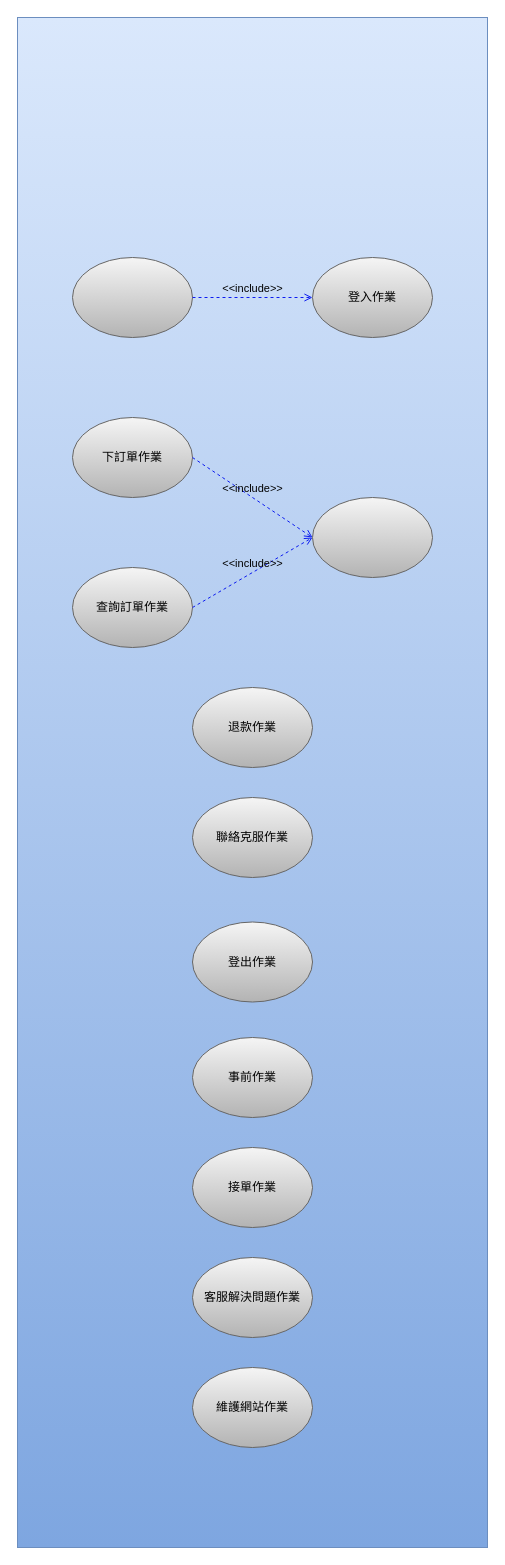
The diagram is 505 pixels wide and 1565 high, and some of its shapes have lost their labels. The shapes that lost their labels are listed below. From the top down, each one's centre as x and y in pixels, then its label:
At point 132,297: "填寫基本資料作業".
At point 372,537: "付款作業".
